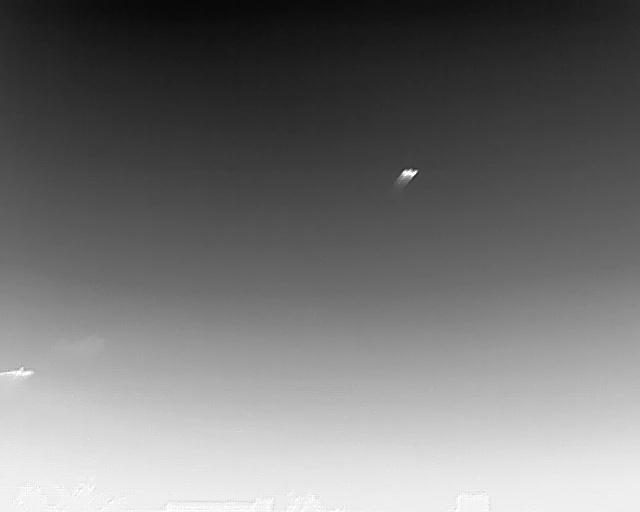fpv-drone: (393, 168, 418, 192)
